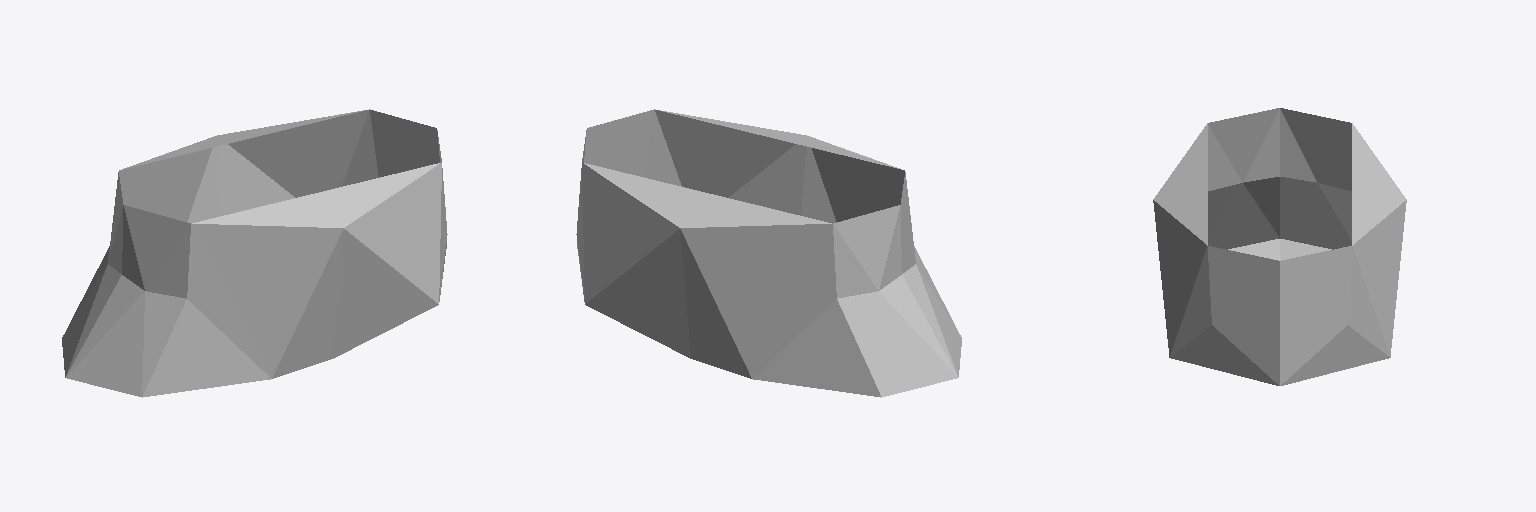
The model's file is iron_leg_gem2.obj.
The picture shows the model from 3 angles: view 1: azimuth 30°, elevation 25°; view 2: azimuth 150°, elevation 25°; view 3: azimuth 270°, elevation 25°; orthographic projection.
Visible parts, largest first — view 1: IronLegGem2; view 2: IronLegGem2; view 3: IronLegGem2.
Boxes of the visible parts, x1=… form: IronLegGem2: x1=62, y1=109, x2=447, y2=397; IronLegGem2: x1=576, y1=109, x2=961, y2=397; IronLegGem2: x1=1153, y1=108, x2=1406, y2=385.
Size of the model in its own units: 2.43 by 1.02 by 1.4.